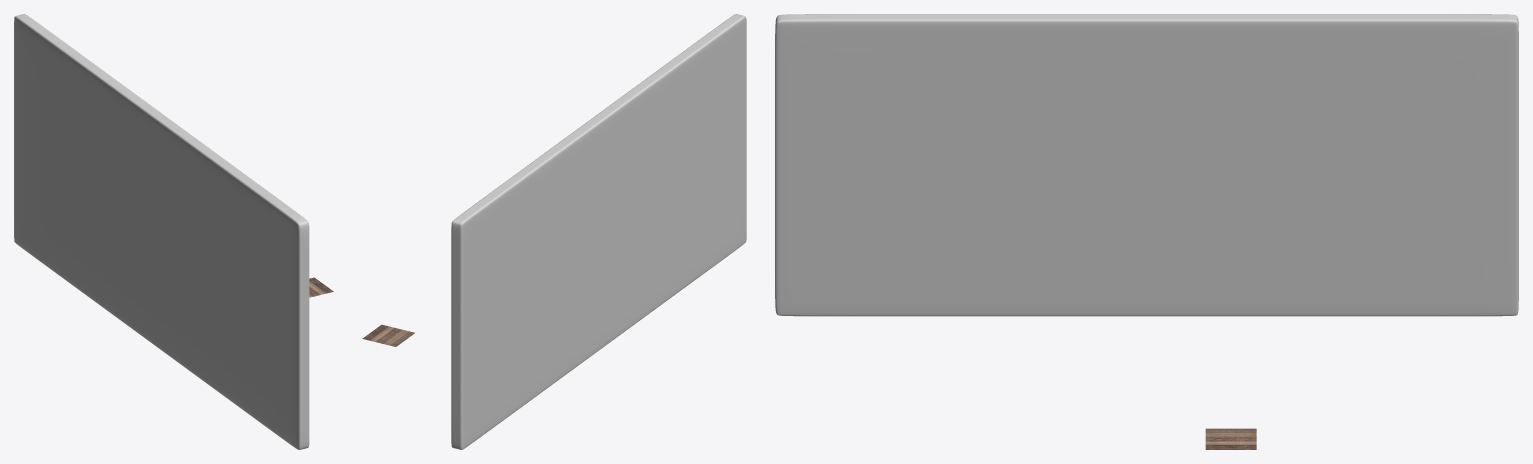
3 renders of one model, left to right at view 1: azimuth 30°, elevation 25°; view 2: azimuth 150°, elevation 25°; view 3: azimuth 270°, elevation 25°, orthographic. The views are drawn at different scales.
Parts seen in each view (by area): view 1: Cube; view 2: Cube, Plane; view 3: Cube, Plane.
Boxes of the visible parts, bbox=[...] form: Cube: bbox=[14, 14, 309, 449]; Cube: bbox=[451, 14, 746, 449]; Plane: bbox=[362, 324, 414, 346]; Cube: bbox=[775, 14, 1518, 316]; Plane: bbox=[1205, 428, 1256, 449].
Size of the model in its own units: 6616 by 7497 by 16325.
1 material, 1 textured.
